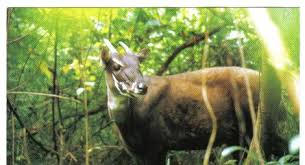sao_la: (97, 38, 256, 162)
